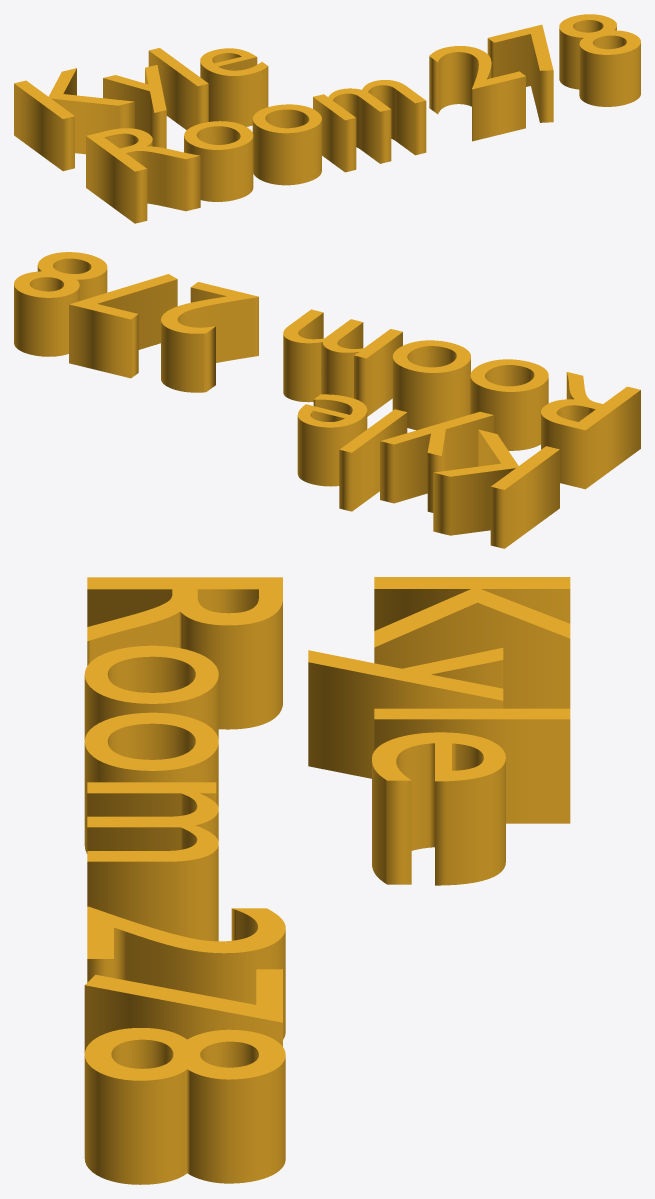
File: kyle-278.gltf
3 renders of one model, top to bottom at view 1: azimuth 30°, elevation 25°; view 2: azimuth 150°, elevation 25°; view 3: azimuth 270°, elevation 25°, orthographic. The views are drawn at different scales.
Visible parts, largest first — view 1: Text; view 2: Text; view 3: Text.
Part boxes in pixels (x1,y1,x2,y2): Text: [14, 14, 640, 223]; Text: [14, 252, 640, 548]; Text: [84, 577, 570, 1184].
Bounding box in the file's own units: 4.15 × 0.4 × 1.69.
